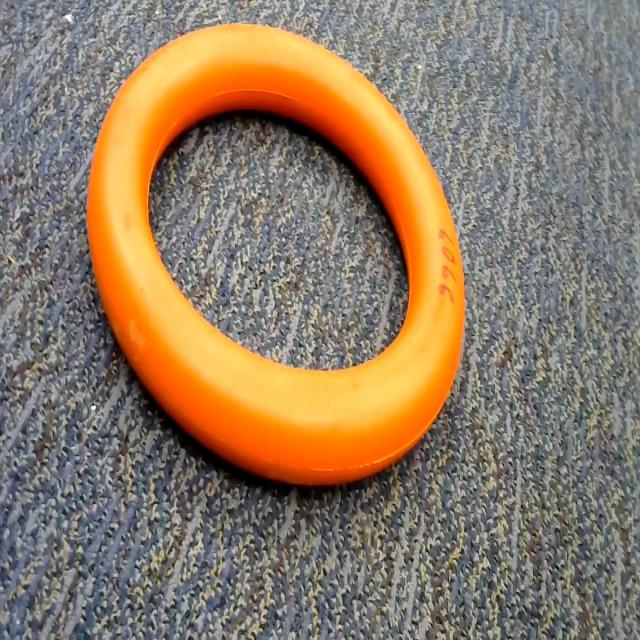note: (80, 0, 502, 513)
